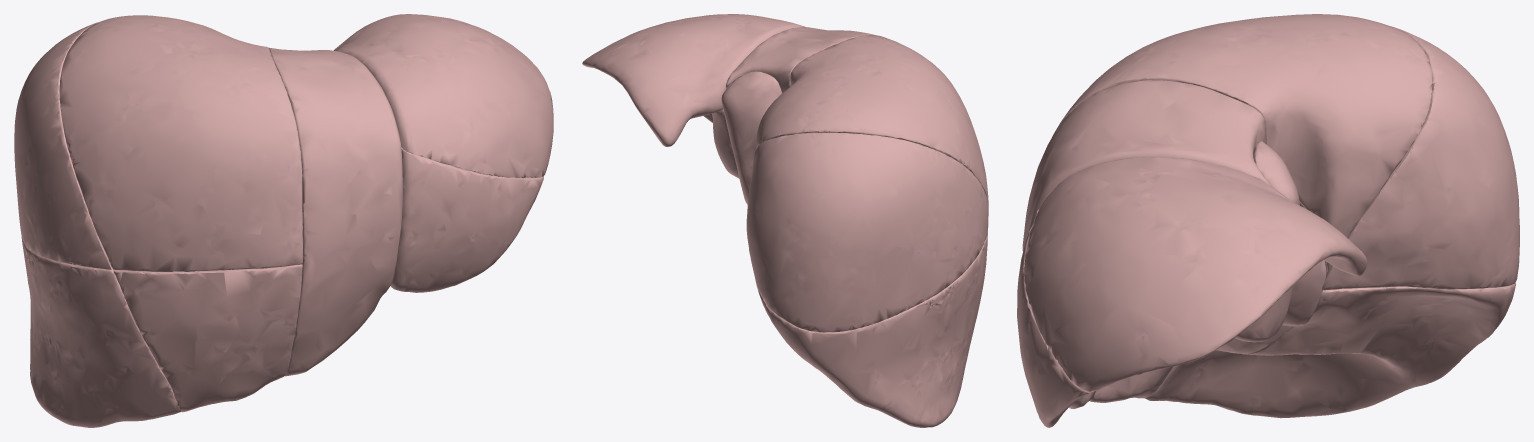
File: liver.glb
3 views of the same model, side by side, from view 1: azimuth 30°, elevation 25°; view 2: azimuth 150°, elevation 25°; view 3: azimuth 270°, elevation 25° (orthographic). The views are drawn at different scales.
Visible parts, largest first — view 1: FJ2824_Hepatovenous_segment_VIII, FJ2820_Hepatovenous_segment_IV, FJ2818_Hepatovenous_segment_II, FJ2821_Hepatovenous_segment_V, FJ2822_Hepatovenous_segment_VI, FJ2819_Hepatovenous_segment_III, FJ2823_Hepatovenous_segment_VIII; view 2: FJ2823_Hepatovenous_segment_VIII, FJ2824_Hepatovenous_segment_VIII, FJ2822_Hepatovenous_segment_VI, FJ2818_Hepatovenous_segment_II, FJ2816_Caudate_lobe_of_liver, FJ2820_Hepatovenous_segment_IV, FJ2819_Hepatovenous_segment_III; view 3: FJ2818_Hepatovenous_segment_II, FJ2824_Hepatovenous_segment_VIII, FJ2822_Hepatovenous_segment_VI, FJ2823_Hepatovenous_segment_VIII, FJ2820_Hepatovenous_segment_IV, FJ2819_Hepatovenous_segment_III, FJ2816_Caudate_lobe_of_liver, FJ2821_Hepatovenous_segment_V.
Part boxes in pixels (x1,y1,x2,y2): FJ2824_Hepatovenous_segment_VIII: (59,15,302,271); FJ2820_Hepatovenous_segment_IV: (269,47,402,376); FJ2818_Hepatovenous_segment_II: (334,14,553,178); FJ2821_Hepatovenous_segment_V: (113,264,302,412); FJ2822_Hepatovenous_segment_VI: (21,237,181,427); FJ2819_Hepatovenous_segment_III: (390,147,543,292); FJ2823_Hepatovenous_segment_VIII: (14,21,112,269); FJ2823_Hepatovenous_segment_VIII: (746,132,988,332); FJ2824_Hepatovenous_segment_VIII: (755,35,988,215); FJ2822_Hepatovenous_segment_VI: (757,225,988,427); FJ2818_Hepatovenous_segment_II: (582,14,805,146); FJ2816_Caudate_lobe_of_liver: (721,71,781,204); FJ2820_Hepatovenous_segment_IV: (725,27,875,93); FJ2819_Hepatovenous_segment_III: (704,109,739,178); FJ2818_Hepatovenous_segment_II: (1024,157,1367,391); FJ2824_Hepatovenous_segment_VIII: (1052,14,1432,271); FJ2822_Hepatovenous_segment_VI: (1144,282,1515,418); FJ2823_Hepatovenous_segment_VIII: (1322,27,1519,290); FJ2820_Hepatovenous_segment_IV: (1022,80,1271,408); FJ2819_Hepatovenous_segment_III: (1017,208,1237,427); FJ2816_Caudate_lobe_of_liver: (1235,141,1326,342); FJ2821_Hepatovenous_segment_V: (1089,325,1291,402).
Size of the model in its own units: 0.2094 by 0.1552 by 0.159.
